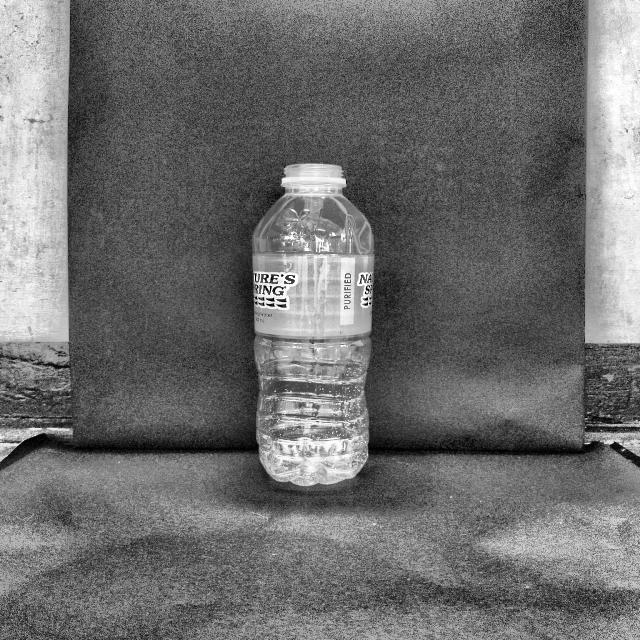Plastic-Bottle: (252, 161, 376, 487)
